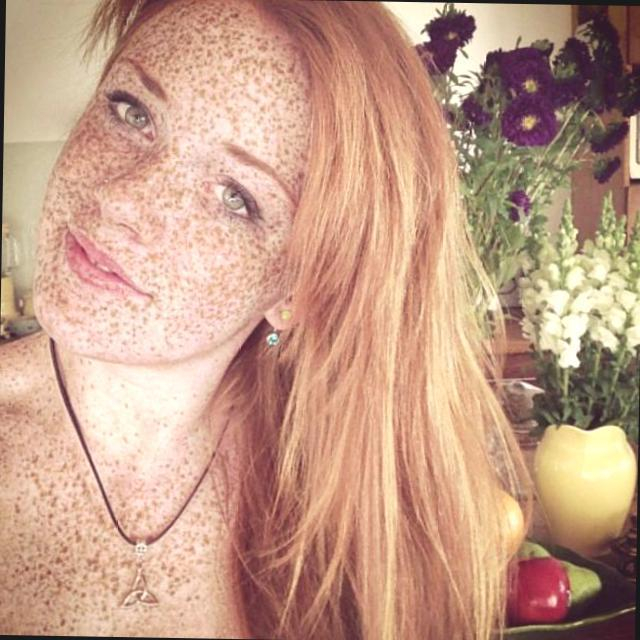freckle: (31, 0, 306, 340), (0, 338, 250, 636)
